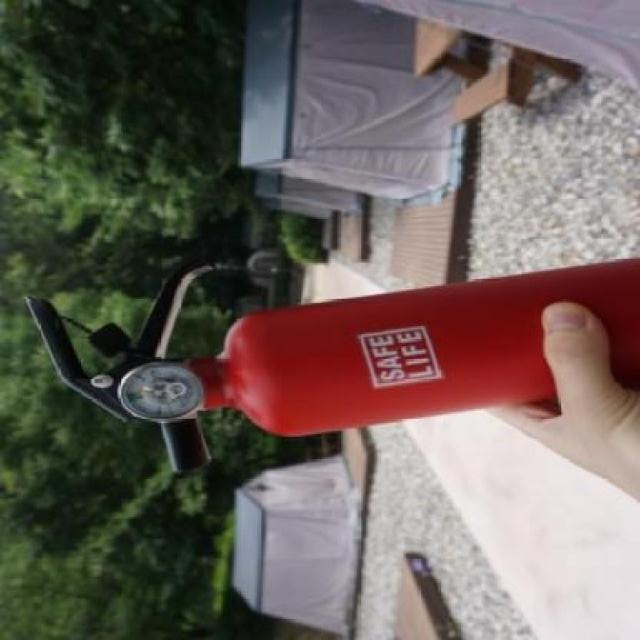fire extinguisher: (24, 257, 640, 472)
